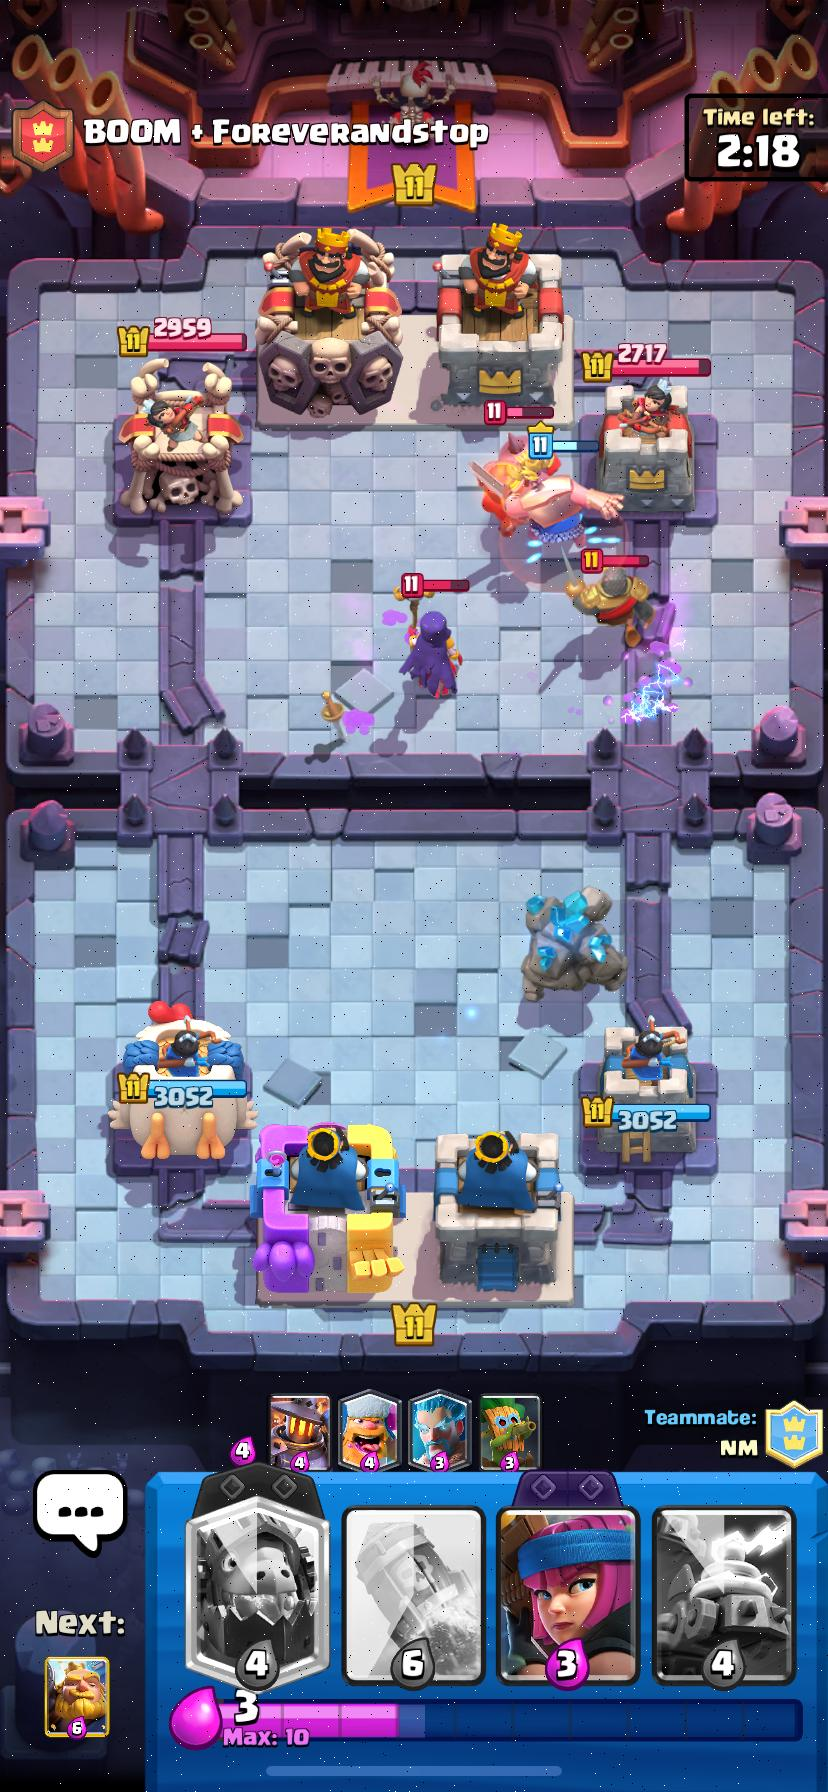EFurnace: (470, 434, 557, 517)
EKingTower: (433, 225, 573, 424), (256, 227, 401, 418)
EKnight: (573, 565, 653, 647)
EWitch: (401, 611, 461, 699)
EnemyPrincessTower: (118, 359, 242, 514), (599, 381, 693, 512)
OGolem: (522, 887, 627, 1000)
ORoyalKnight: (509, 479, 621, 553)
OwnKingTower: (253, 1123, 403, 1299), (433, 1130, 573, 1303)
OwnPrincessTower: (111, 1003, 256, 1159), (580, 1017, 716, 1173)
